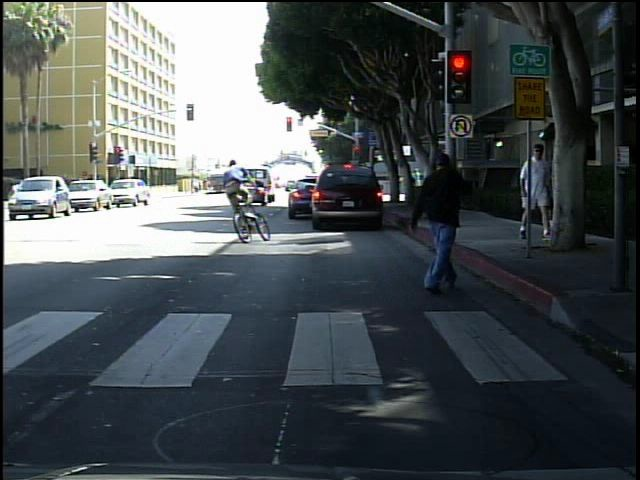person: (407, 149, 470, 297), (196, 146, 258, 233), (512, 138, 551, 242), (544, 139, 580, 244)
